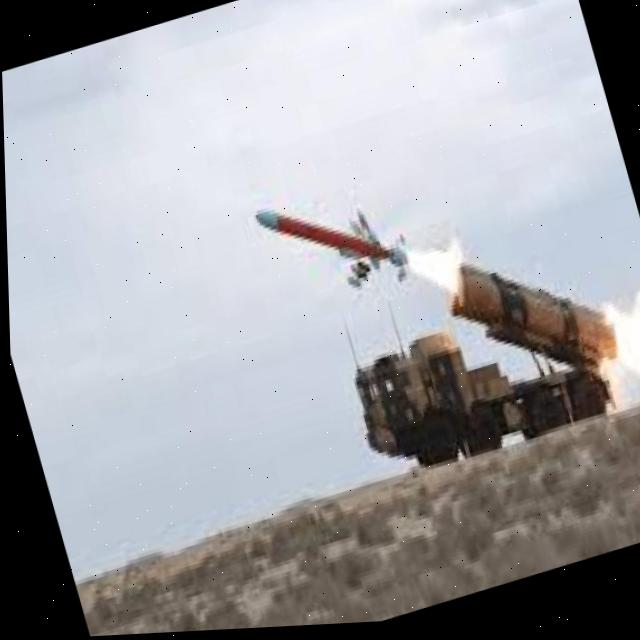missile: (254, 177, 405, 309)
